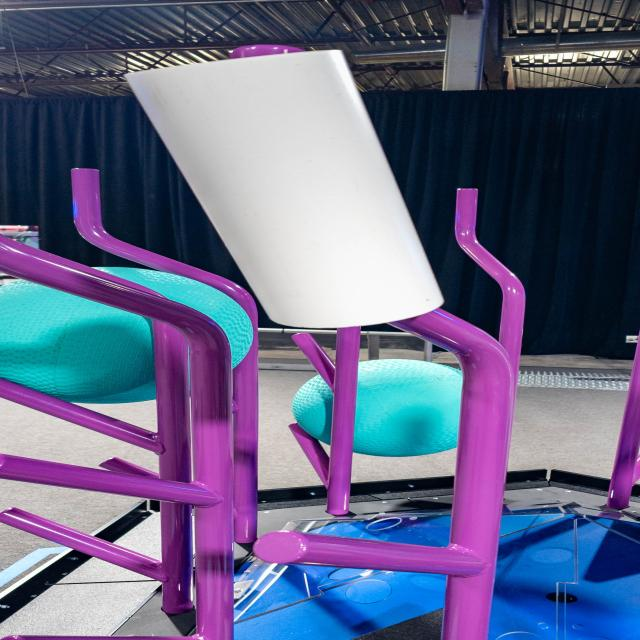Algae: (0, 267, 253, 404), (295, 359, 462, 457)
Coral: (127, 50, 446, 328)
